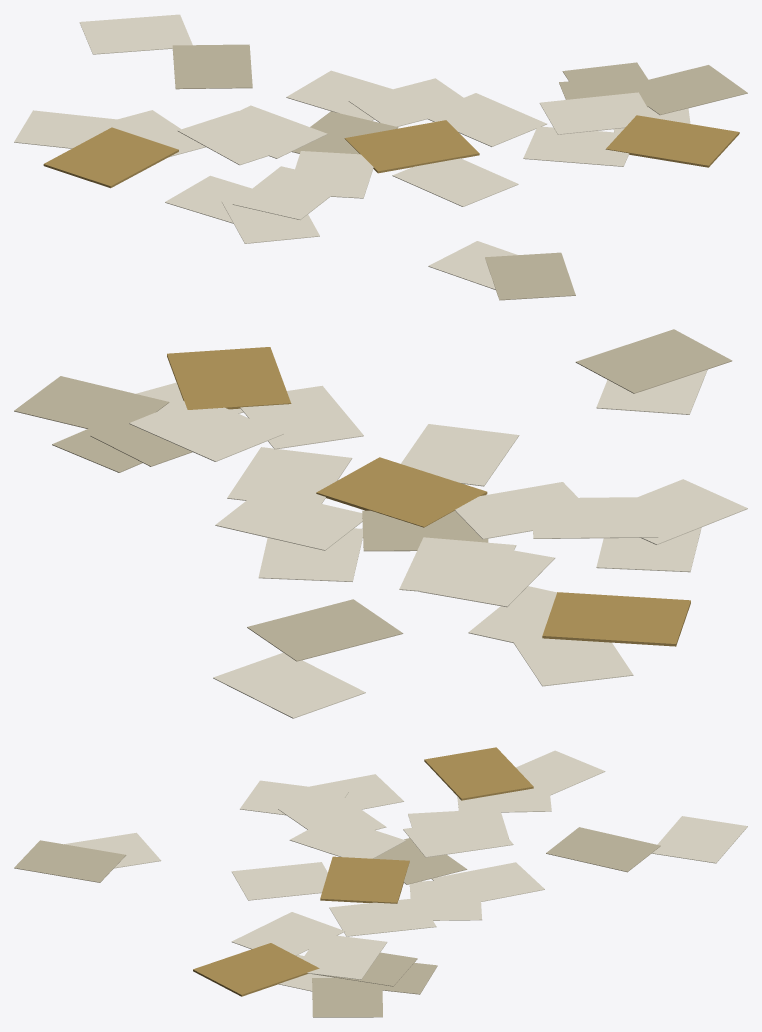
Rendered from SM_80s_PaperScatter_B.glb.
3 views of the same model, one above another, from view 1: azimuth 30°, elevation 25°; view 2: azimuth 150°, elevation 25°; view 3: azimuth 270°, elevation 25° (orthographic). The views are drawn at different scales.
Visible parts, largest first — view 1: SM_80s_PaperScatter_B; view 2: SM_80s_PaperScatter_B; view 3: SM_80s_PaperScatter_B.
Boxes of the visible parts, x1,y1,x2,y2 form: SM_80s_PaperScatter_B: (14,14,747,300); SM_80s_PaperScatter_B: (14,329,747,718); SM_80s_PaperScatter_B: (14,747,747,1017).
Bounding box in the file's own units: 2.53 × 0.0136 × 2.93.
